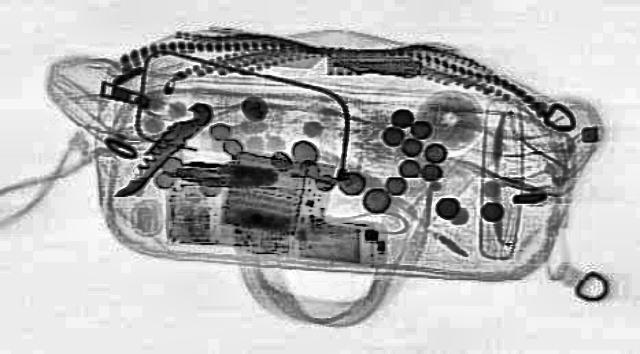Knife: (105, 100, 218, 200)
